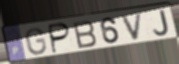6: (100, 17, 121, 45)
B: (71, 19, 99, 50)
G: (25, 27, 49, 56)
J: (153, 8, 170, 37)
P: (48, 22, 73, 56)
V: (121, 11, 145, 41)
